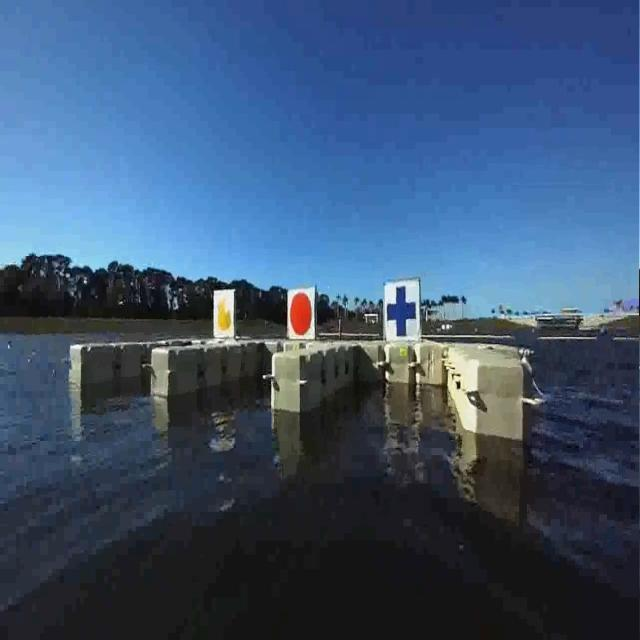blue-cross: (382, 279, 420, 343)
red-dot: (288, 282, 317, 342)
yellow-duck: (214, 284, 233, 339)
